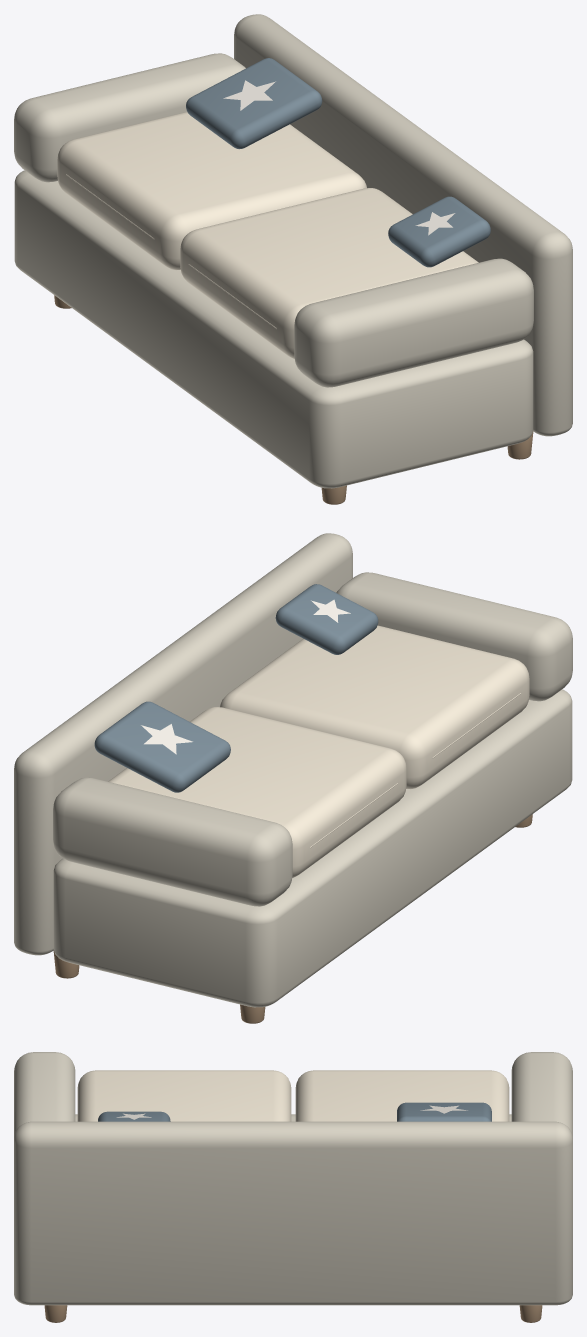
The model's file is sofa.glb.
3 views of the same model, one above another, from view 1: azimuth 30°, elevation 25°; view 2: azimuth 150°, elevation 25°; view 3: azimuth 270°, elevation 25° (orthographic). The views are drawn at different scales.
Parts seen in each view (by area): view 1: base, backrest, seat_-1, seat_1, armrest_1, armrest_-1, pillow_large, pillow_small, pillow_large_star; view 2: base, backrest, seat_1, seat_-1, armrest_-1, armrest_1, pillow_large, pillow_small, pillow_large_star; view 3: backrest, seat_1, seat_-1, armrest_1, armrest_-1, pillow_large, pillow_small, leg_0.34_0.85, leg_0.34_-0.85.
Boxes of the visible parts, x1,y1,x2,y2 form: base: (14,170,533,488); backrest: (234,14,572,436); seat_-1: (57,112,366,270); seat_1: (180,188,478,358); armrest_1: (294,258,533,387); armrest_-1: (14,53,245,182); pillow_large: (186,58,322,149); pillow_small: (388,196,490,267); pillow_large_star: (223,80,275,110); base: (53,689,572,1007); backrest: (14,533,352,955); seat_1: (220,625,529,789); seat_-1: (108,707,406,877); armrest_-1: (53,777,292,906); armrest_1: (336,572,572,701); pillow_large: (94,701,230,792); pillow_small: (275,584,378,654); pillow_large_star: (141,724,192,754); backrest: (14,1121,572,1305); seat_1: (77,1070,291,1121); seat_-1: (295,1070,509,1121); armrest_1: (14,1052,75,1137); armrest_-1: (511,1052,572,1137); pillow_large: (397,1102,491,1121); pillow_small: (98,1111,170,1121); leg_0.34_0.85: (44,1305,67,1322); leg_0.34_-0.85: (519,1305,542,1322).
Bounding box in the file's own units: 0.95 × 0.8 × 2.
